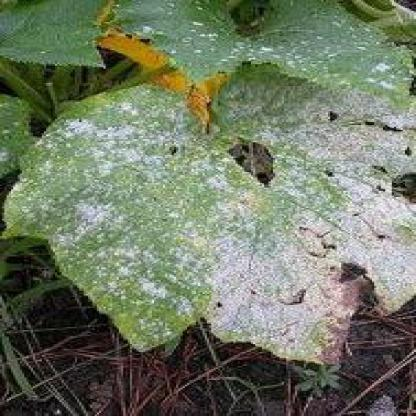Squash Powdery mildew leaf: (24, 57, 414, 376)
